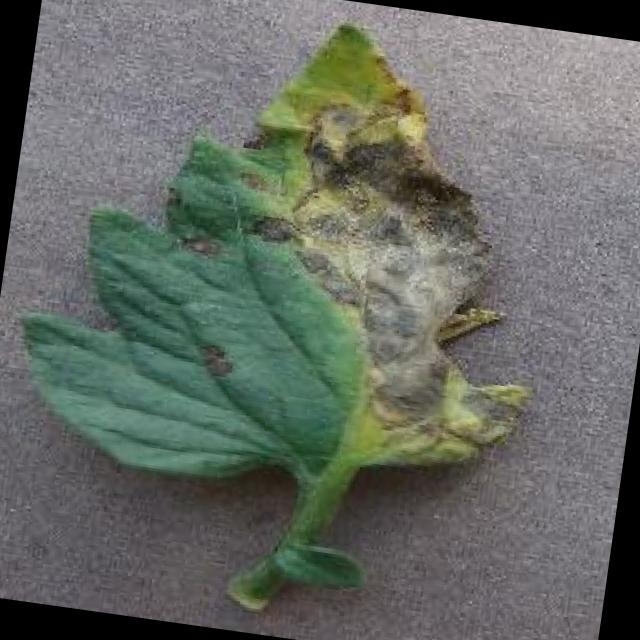Tomato_Early_Blight: (164, 7, 586, 523)
